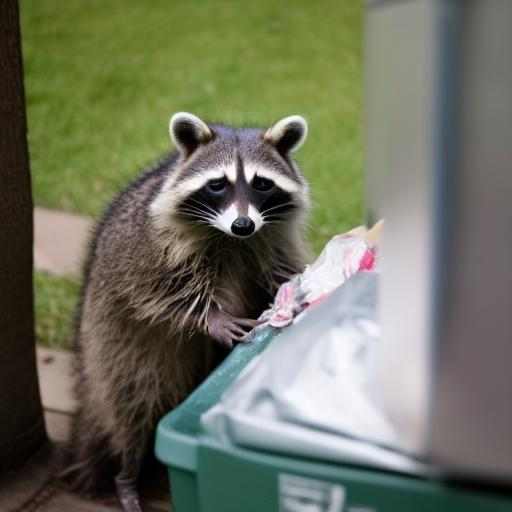raccoon: (57, 104, 319, 482)
